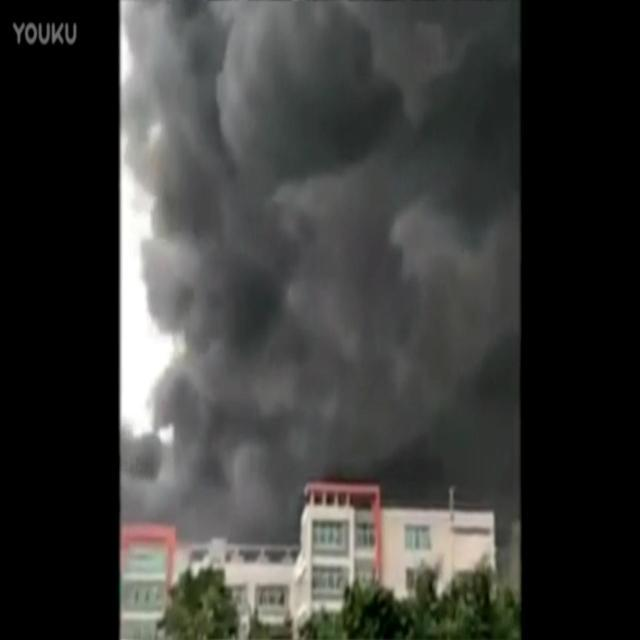Smoke: (121, 1, 521, 544)
